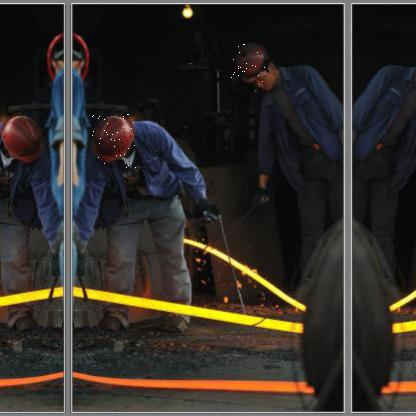safetyhelmet: (92, 114, 140, 170), (230, 43, 268, 84)
